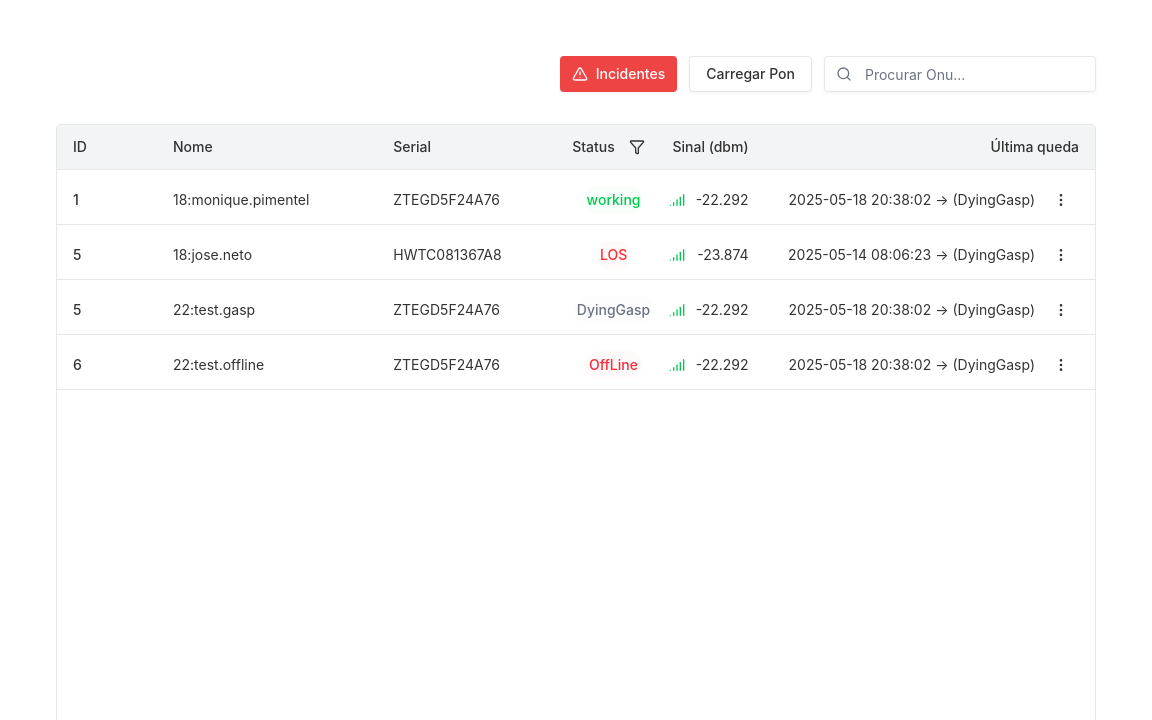
Test: PonScreen Filtrar por state, › Deve filtrar Onus pelo state DyingGasp
Step 1. Click the button named "filter-btn" → (637, 147), box left=619, top=137, right=655, bottom=157
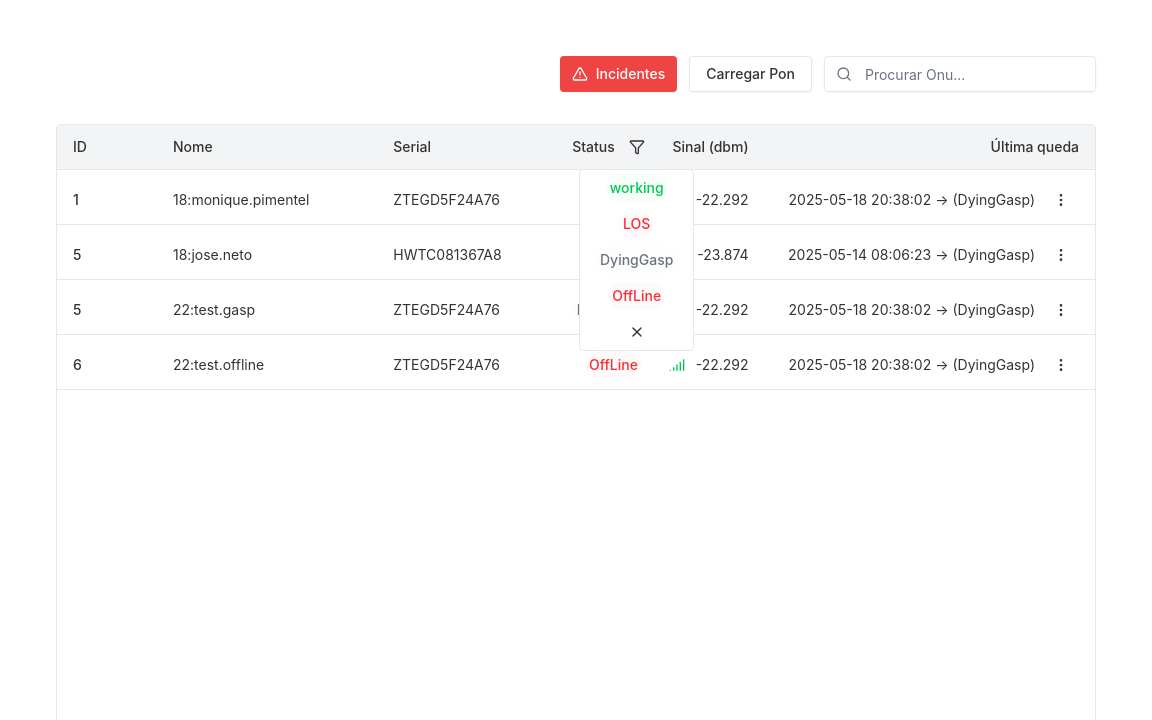
Step 2. Click the button with aria-label "filter-DyingGasp" → (637, 260), box left=580, top=242, right=693, bottom=278
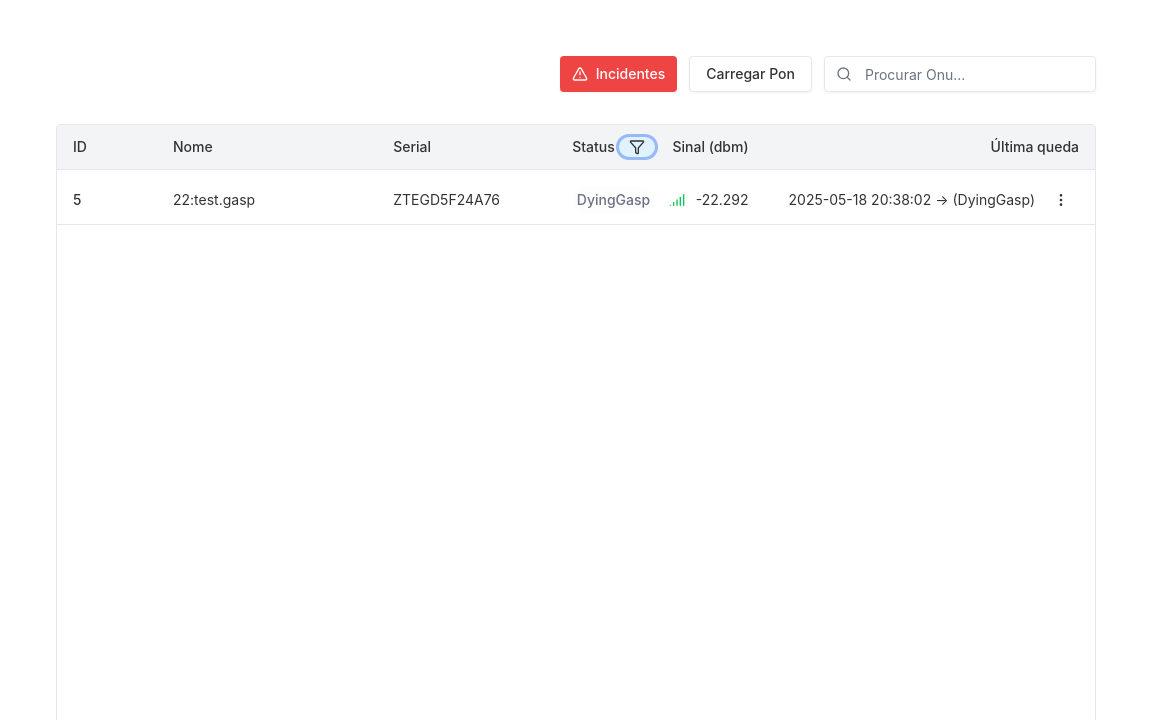
Expected: the number of elements named "row" is 1, left=57, top=170, right=1095, bottom=225
